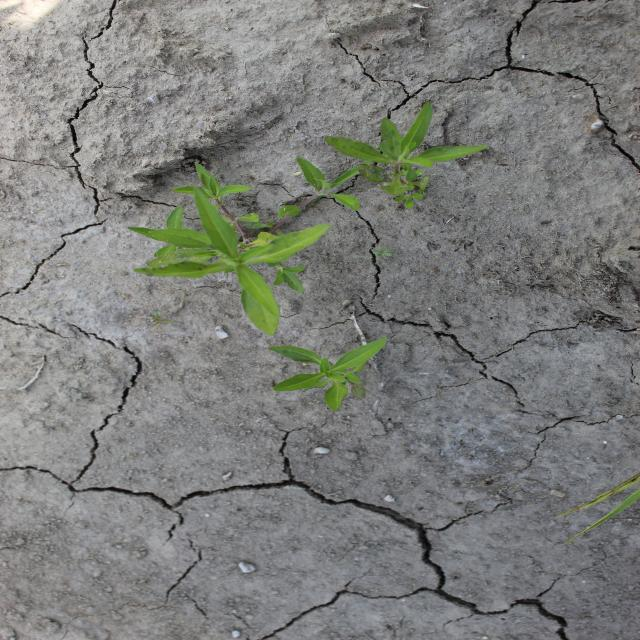Eclipta: (124, 157, 372, 337), (320, 99, 490, 212), (260, 338, 390, 412)
